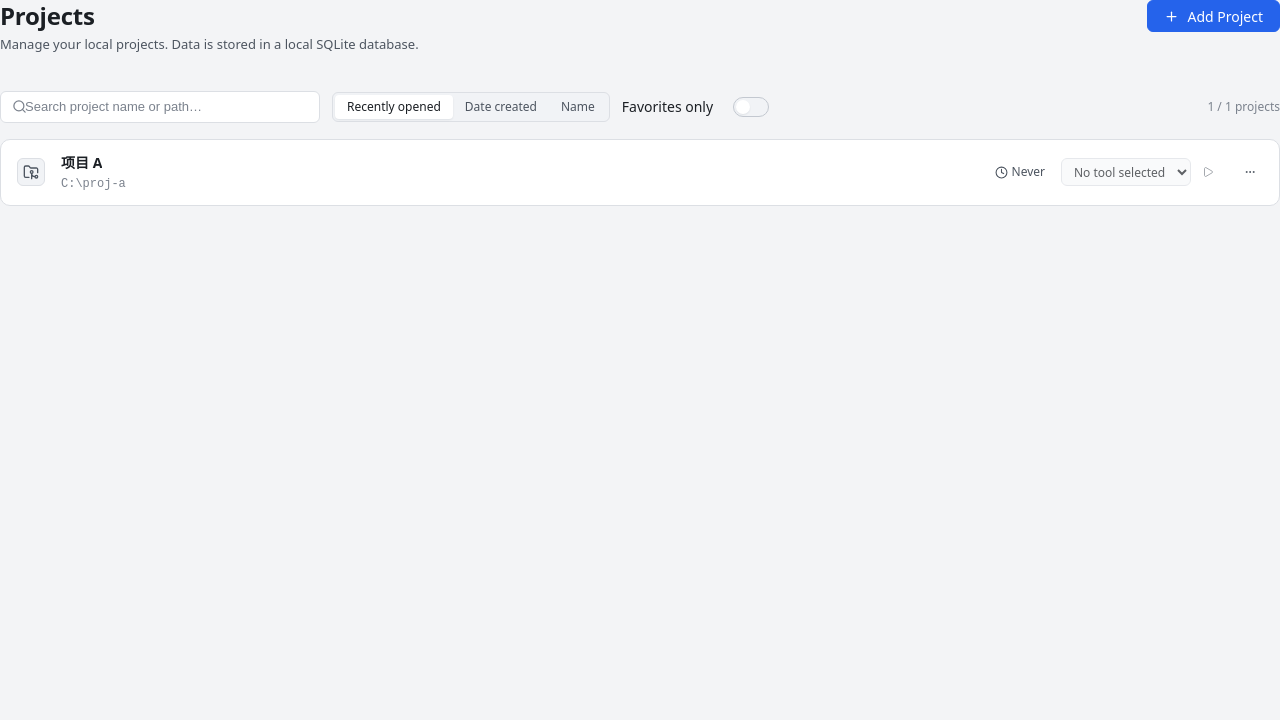
项目详情：居中模态弹窗 › 支持英文标签
Click the button with aria-label "View project details: 项目 A": (82, 162) [61,152,978,193]
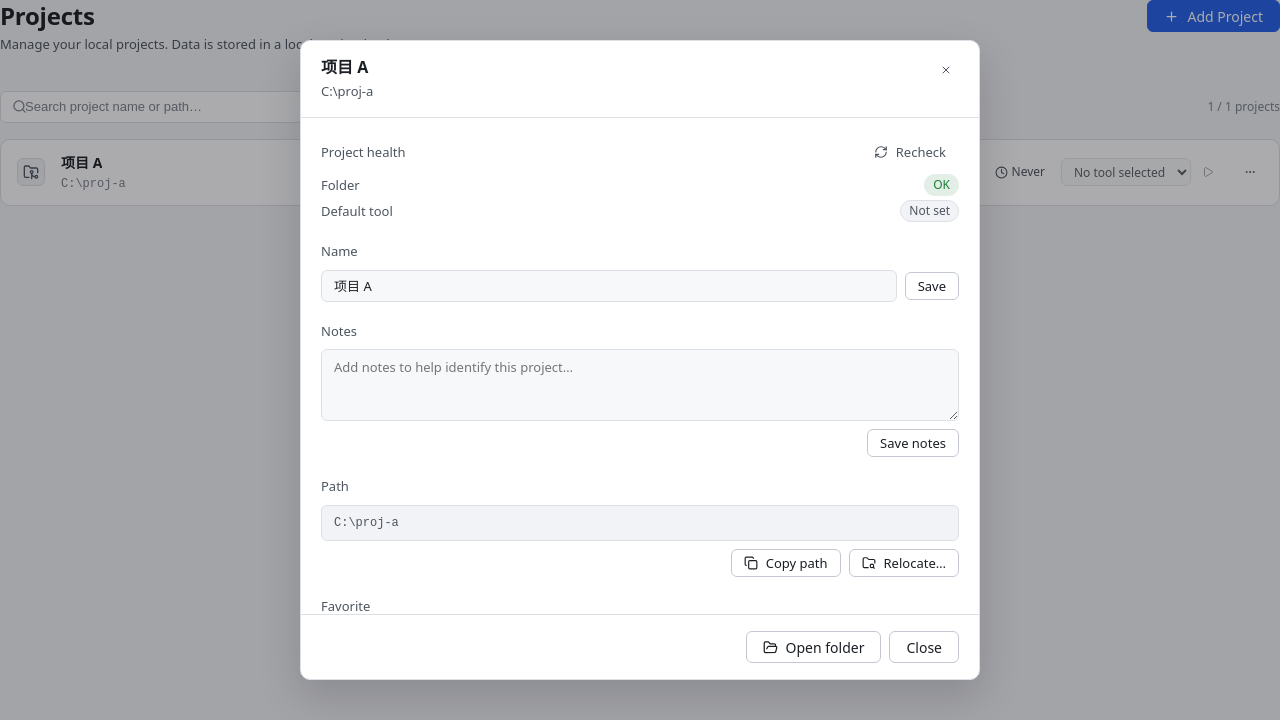
Expected: the button "Open folder" is shown, [746,631,881,663]
Expected: the button named "Close" is shown, [933,57,959,83]
